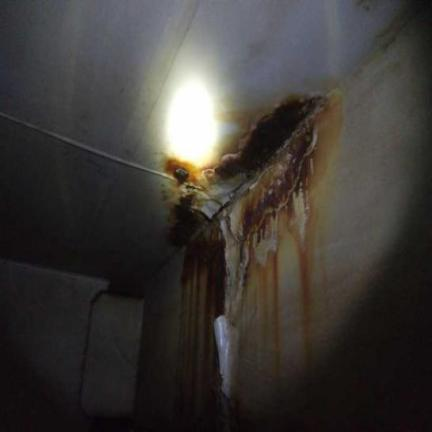karat: (216, 97, 321, 176)
